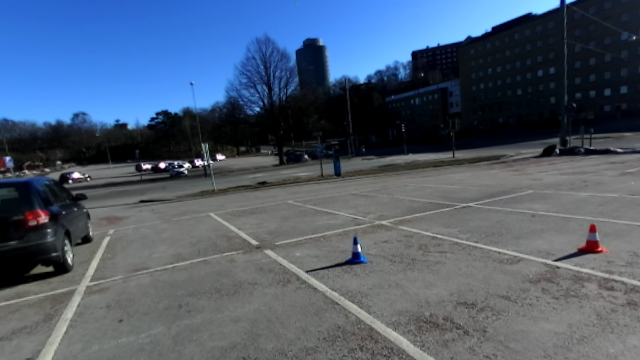blue: (341, 234, 370, 267)
orange: (574, 221, 608, 255)
